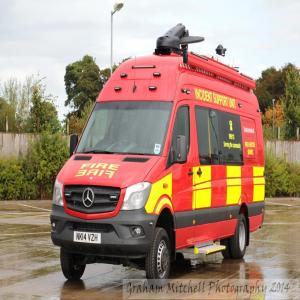Vehicle-registration-plate: (74, 231, 102, 243)
